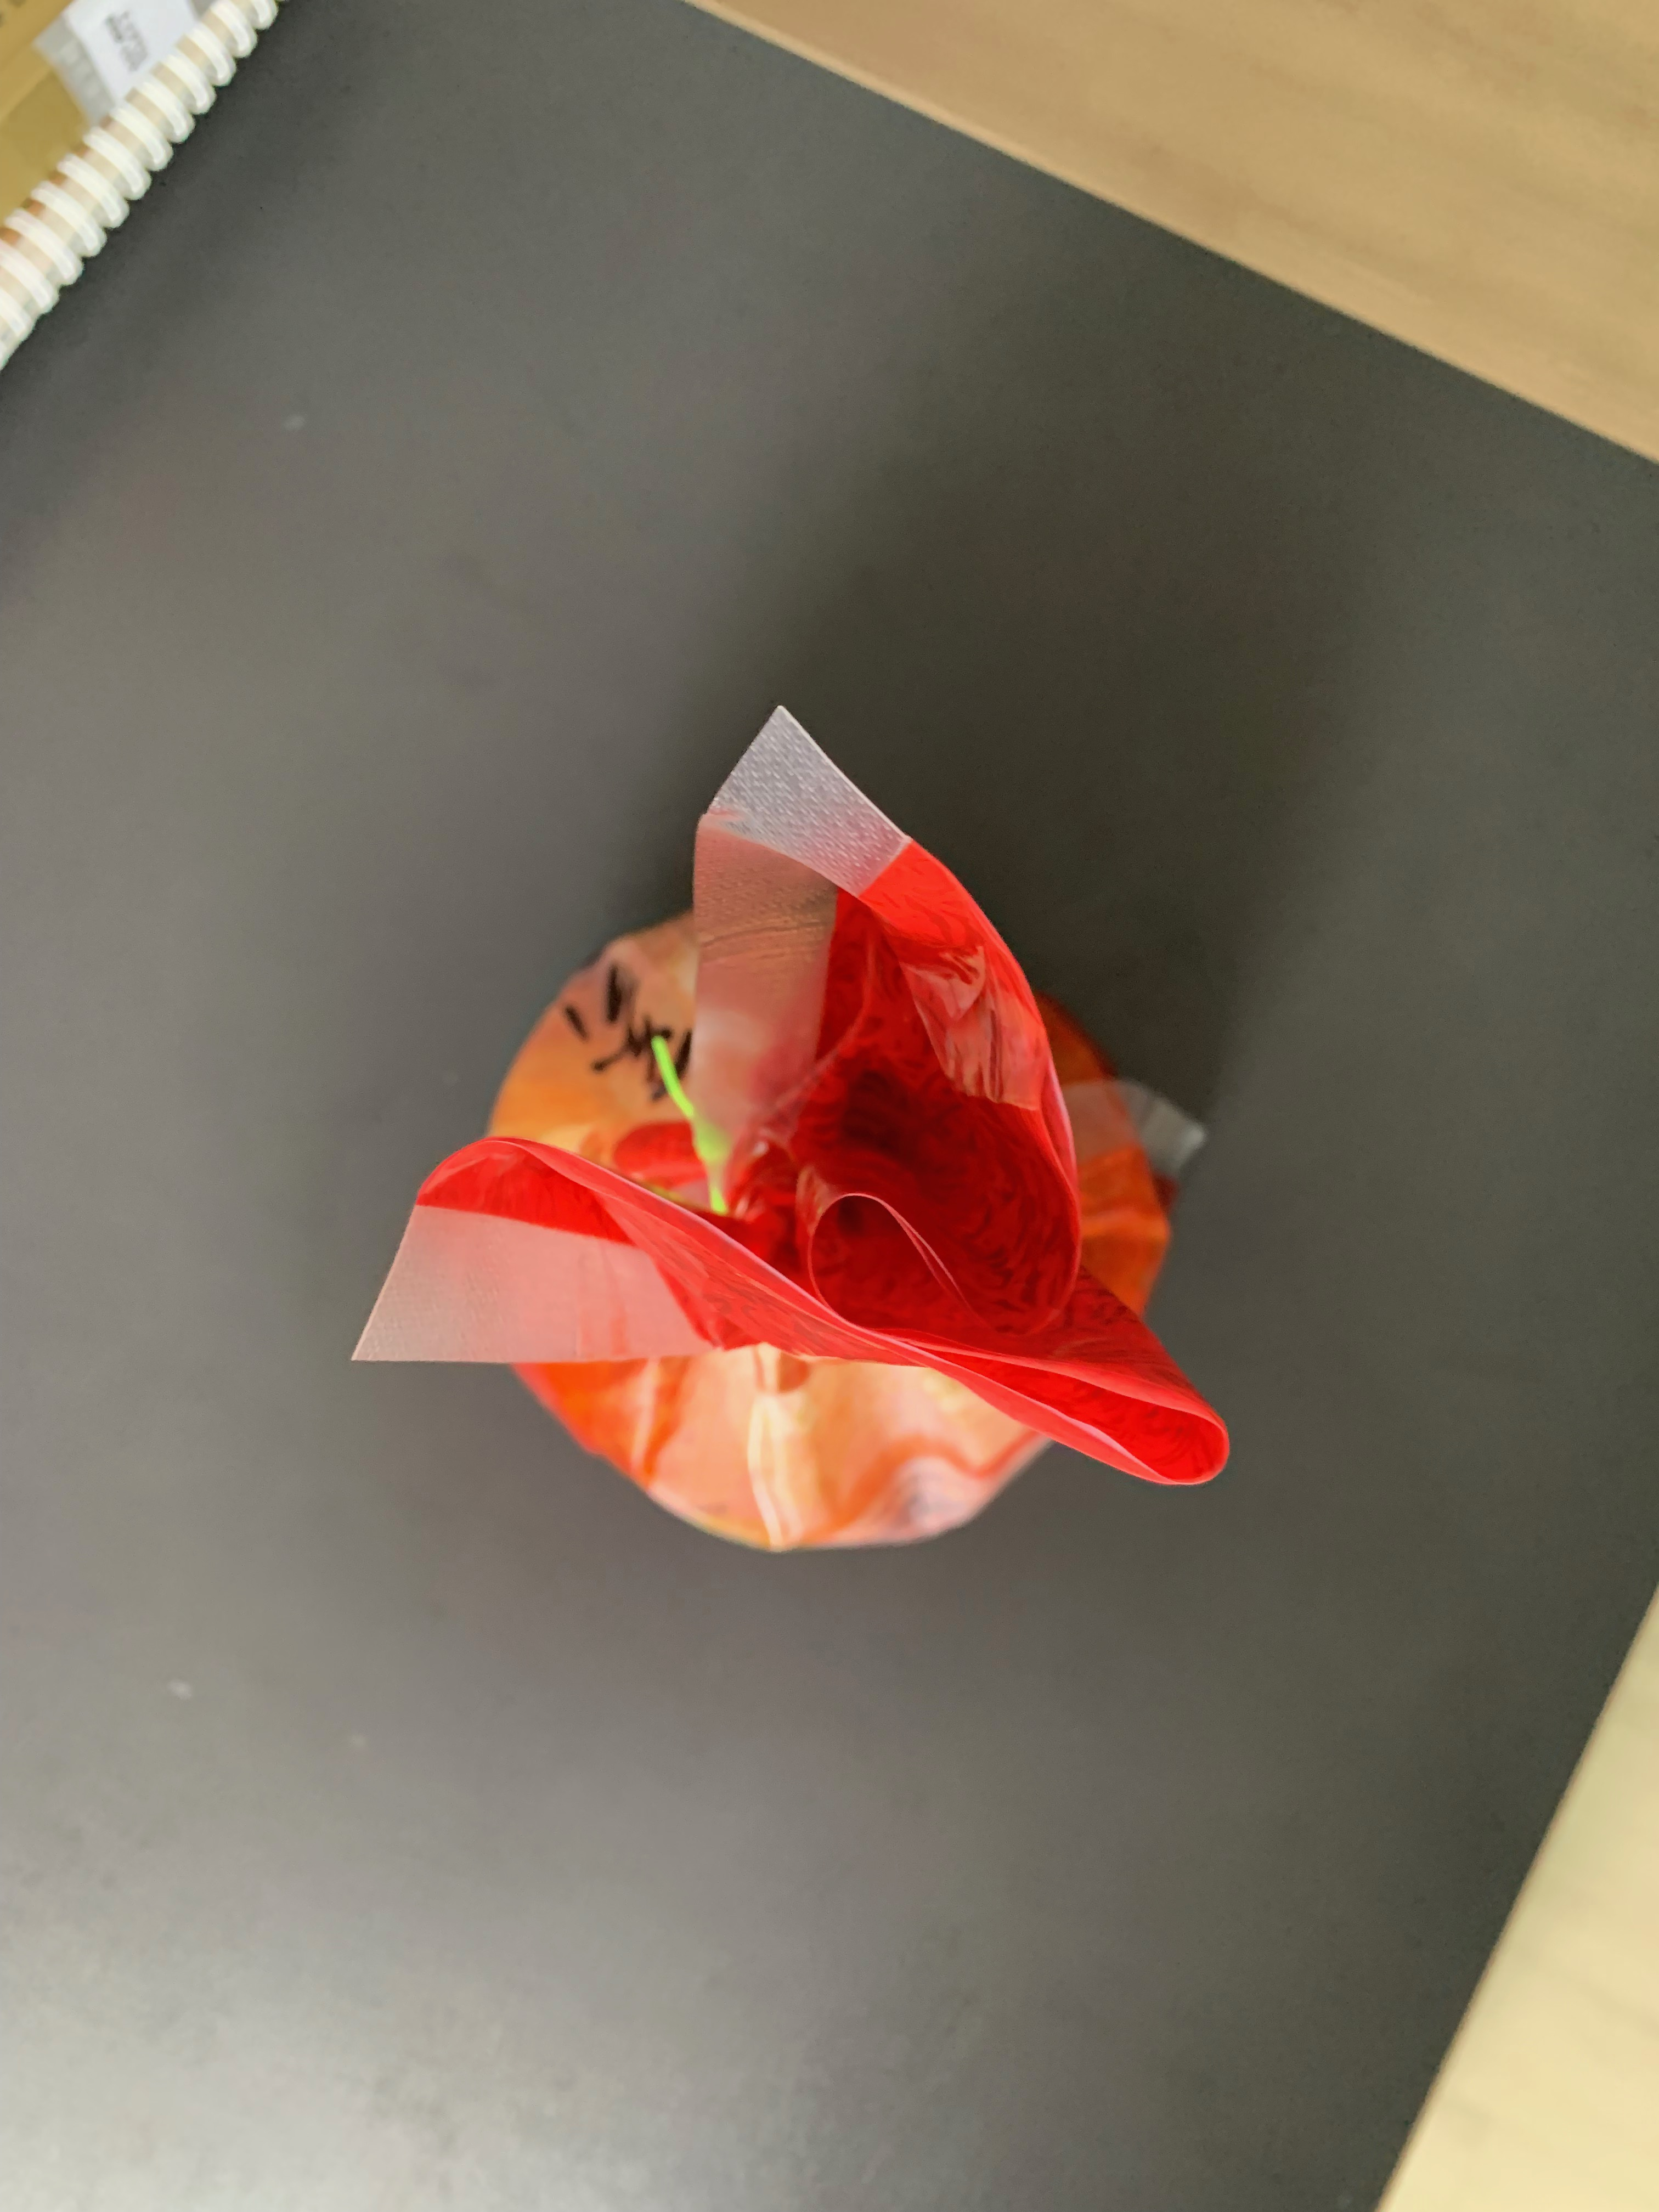kimchi: (415, 843, 1232, 1550)
